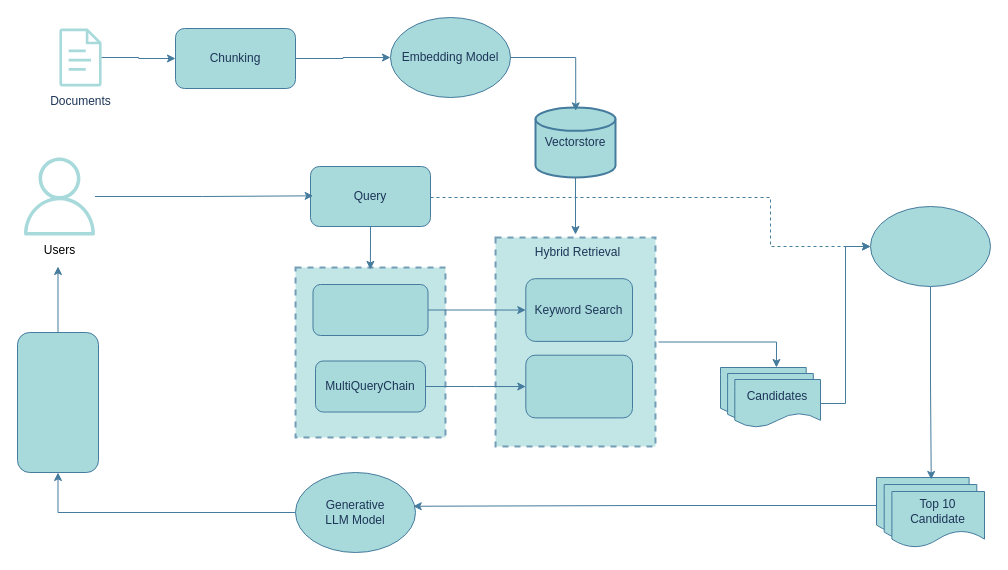
Some shapes in this 1008 by 570 pixel diagram are drawn without their labels. Each missing label, with the centre of its shape:
KeywordExtraction: (x=370, y=310)
Rerank Model: (x=930, y=246)
Response: (x=57, y=402)
Semantic Search: (x=578, y=386)
